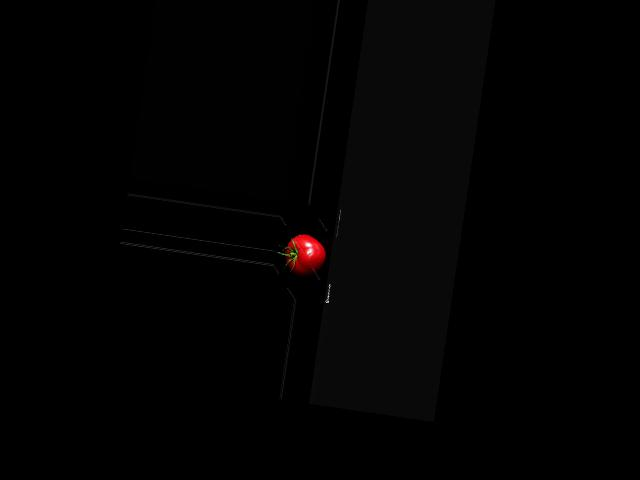tomato: (282, 231, 328, 279)
